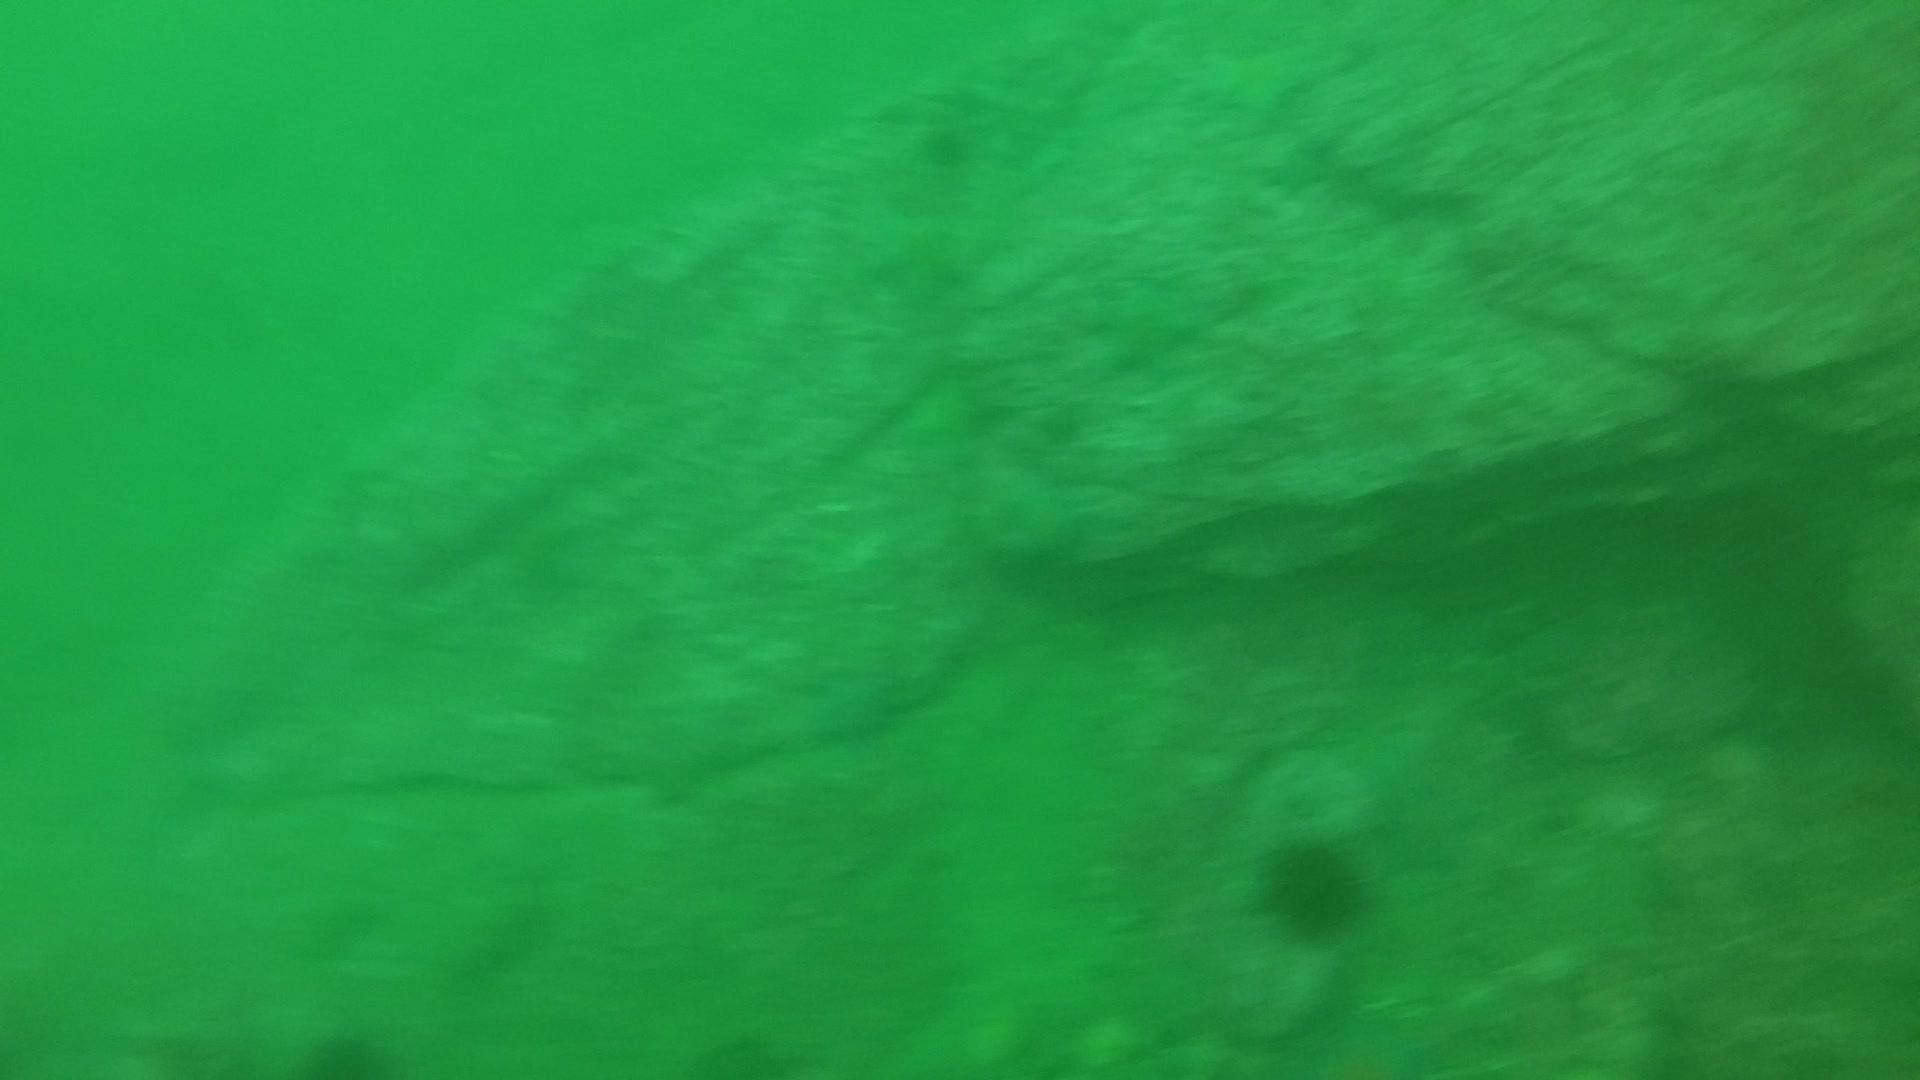echinus: (1254, 829, 1374, 944), (301, 1022, 397, 1080), (911, 113, 982, 179)
starfish: (1192, 36, 1319, 124)
